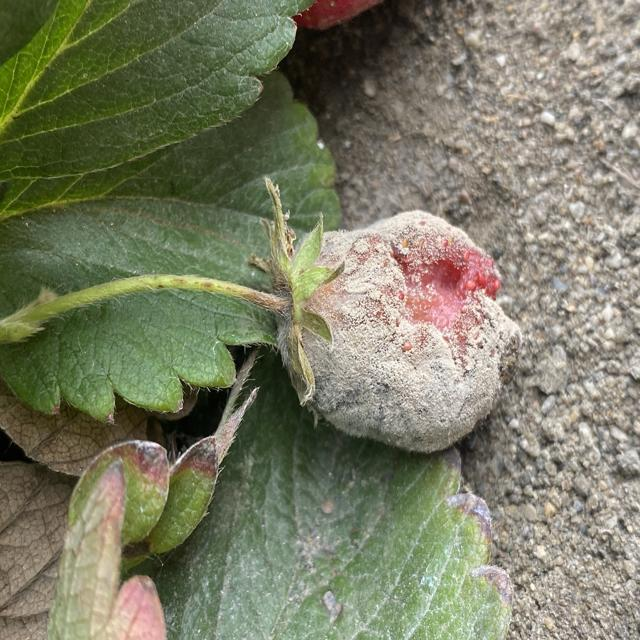Botrytis: (282, 211, 522, 452)
